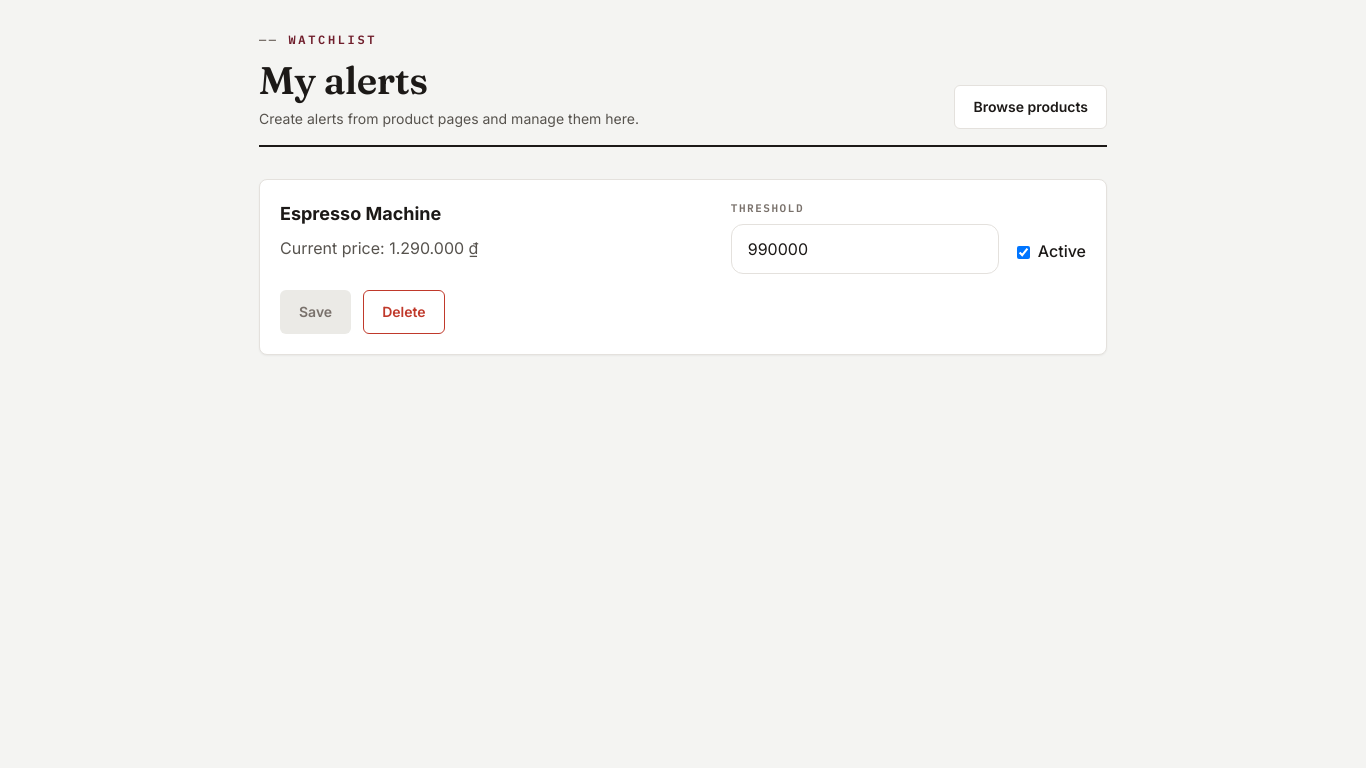
Alerts page › deletes an alert only after the confirmation dialog is accepted
Click the button "Delete": (404,312) [363,290,445,334]
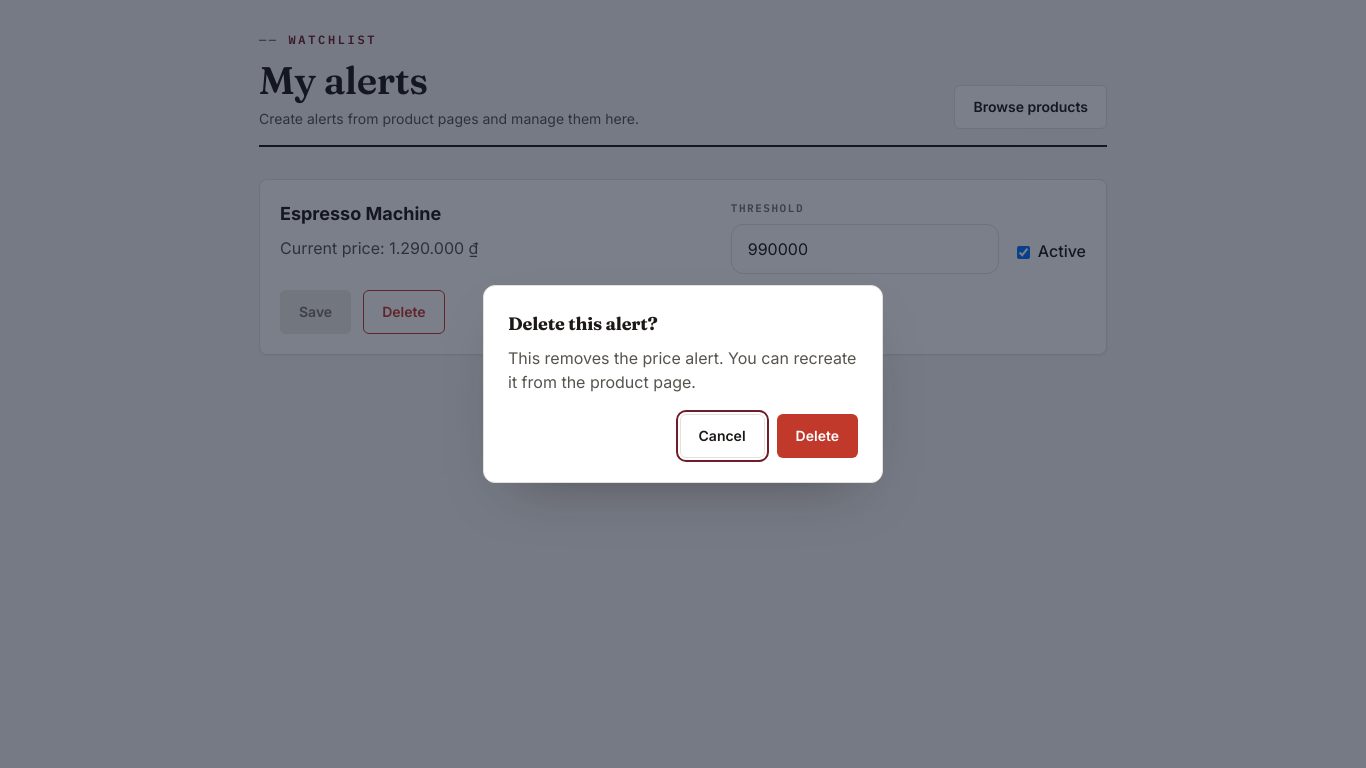
Result: the heading "Delete this alert?" is shown at [508,312,658,335]
Click the button "Delete": (817,436) [777,414,858,458]
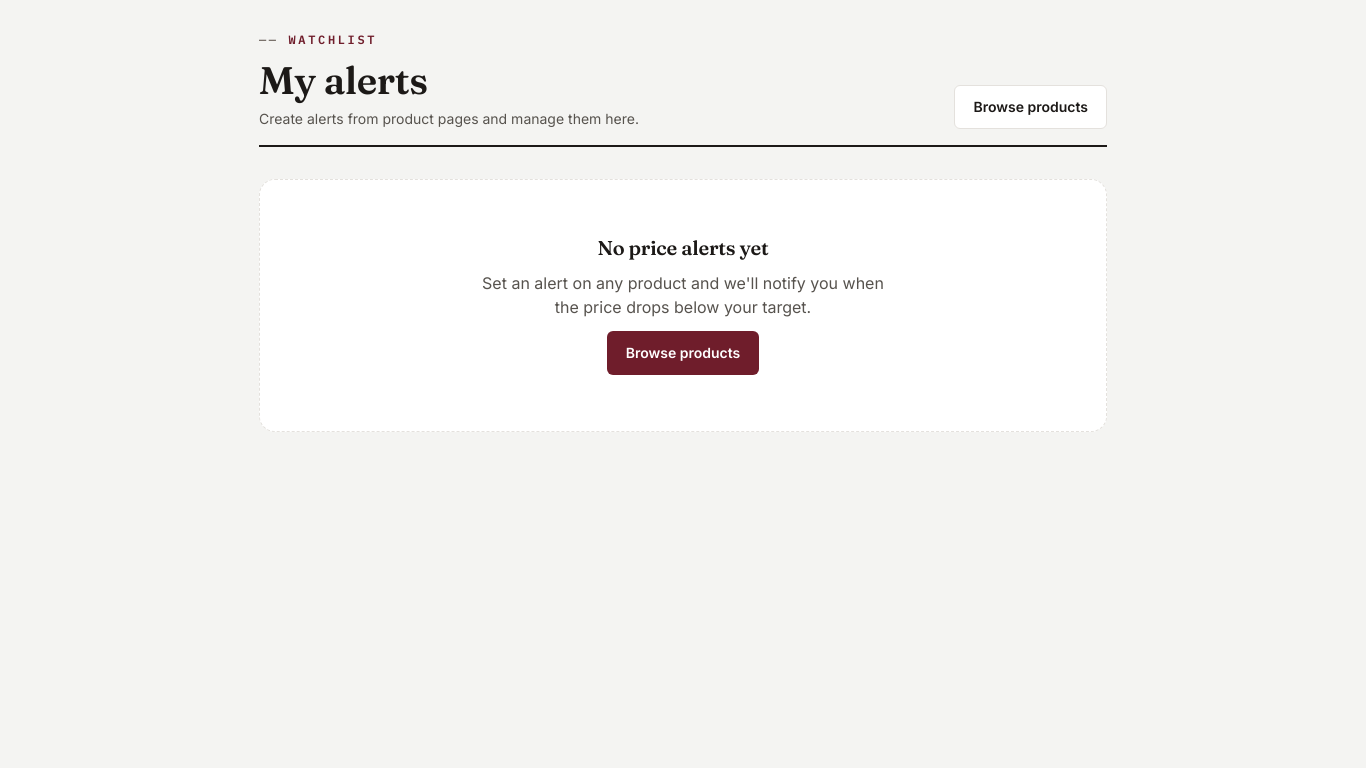
Result: the link "Espresso Machine" is gone
